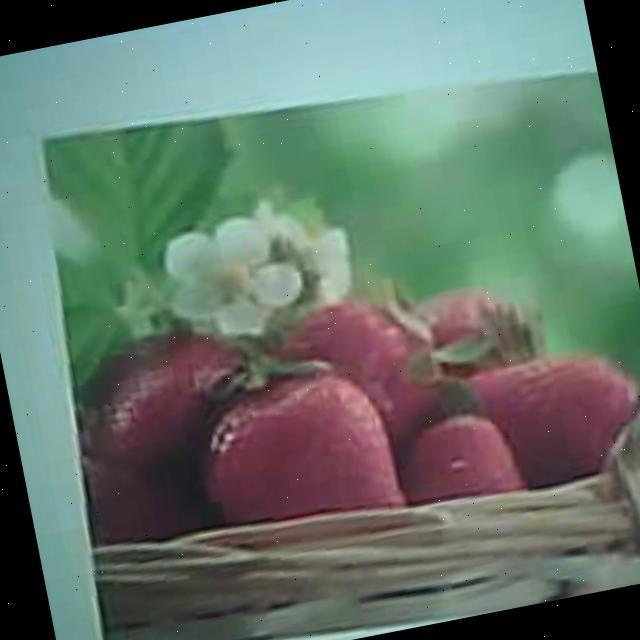ripe: (194, 338, 406, 538)
